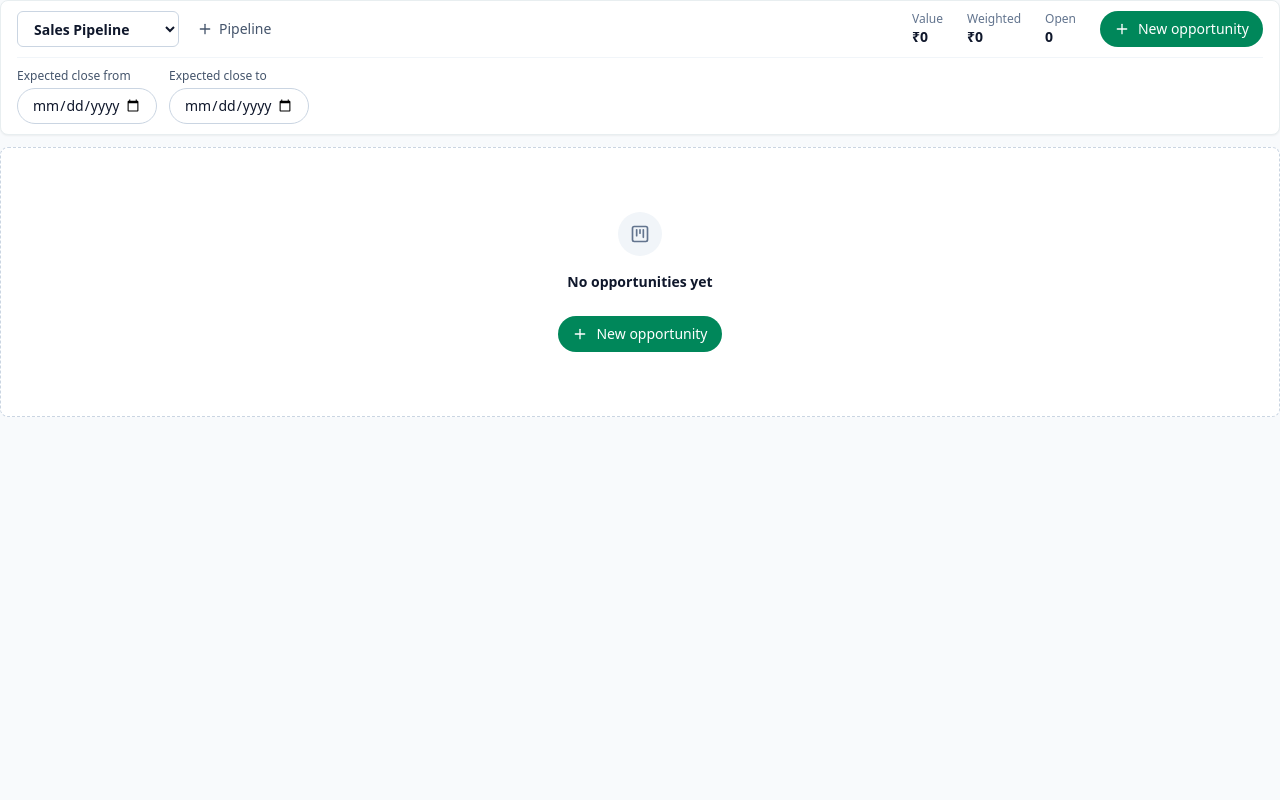
Test: the New opportunity panel › UI-3: a 409 on create shows the server's message, not an endless 'Loading the latest version…'
Click the button "New opportunity" next to "Open" at [1182, 29], box [1100,11,1263,47]
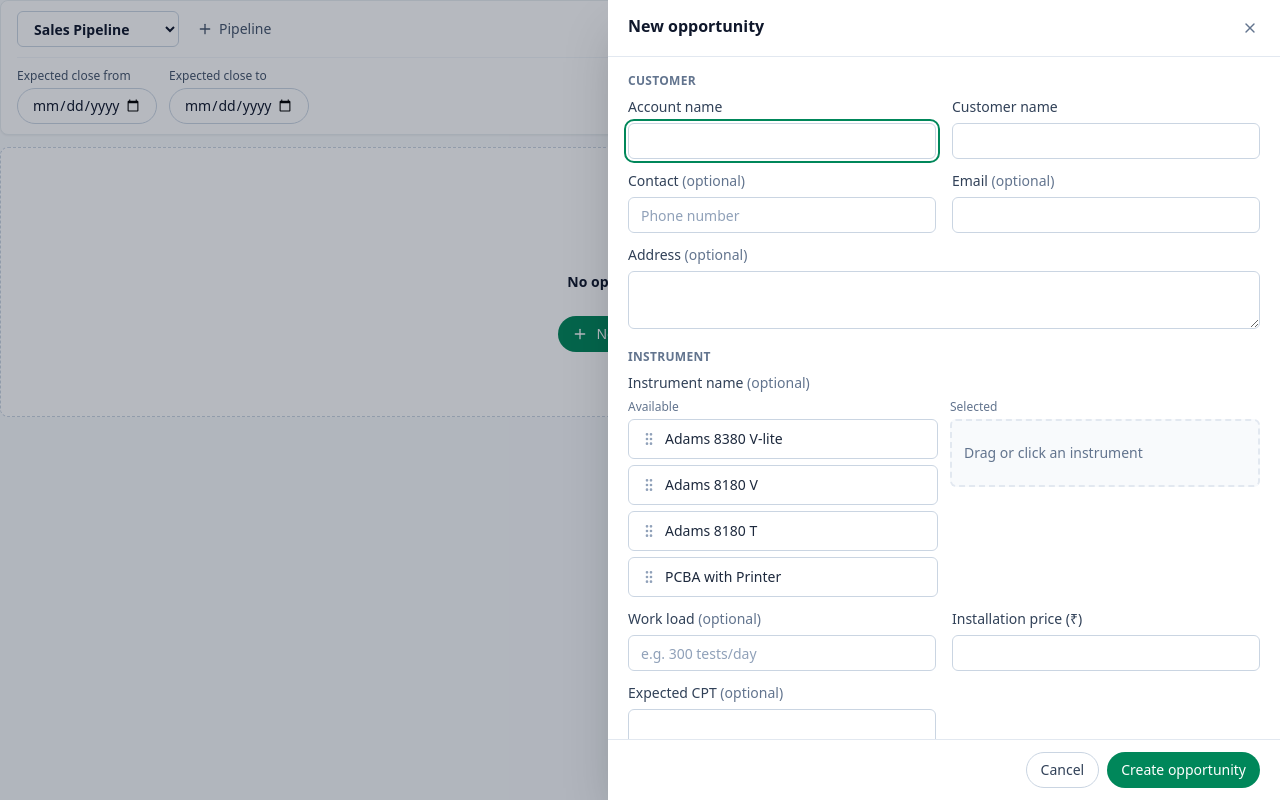
Type "City Lab" into the field labelled "Account name" at [782, 141], box [628,123,936,159]
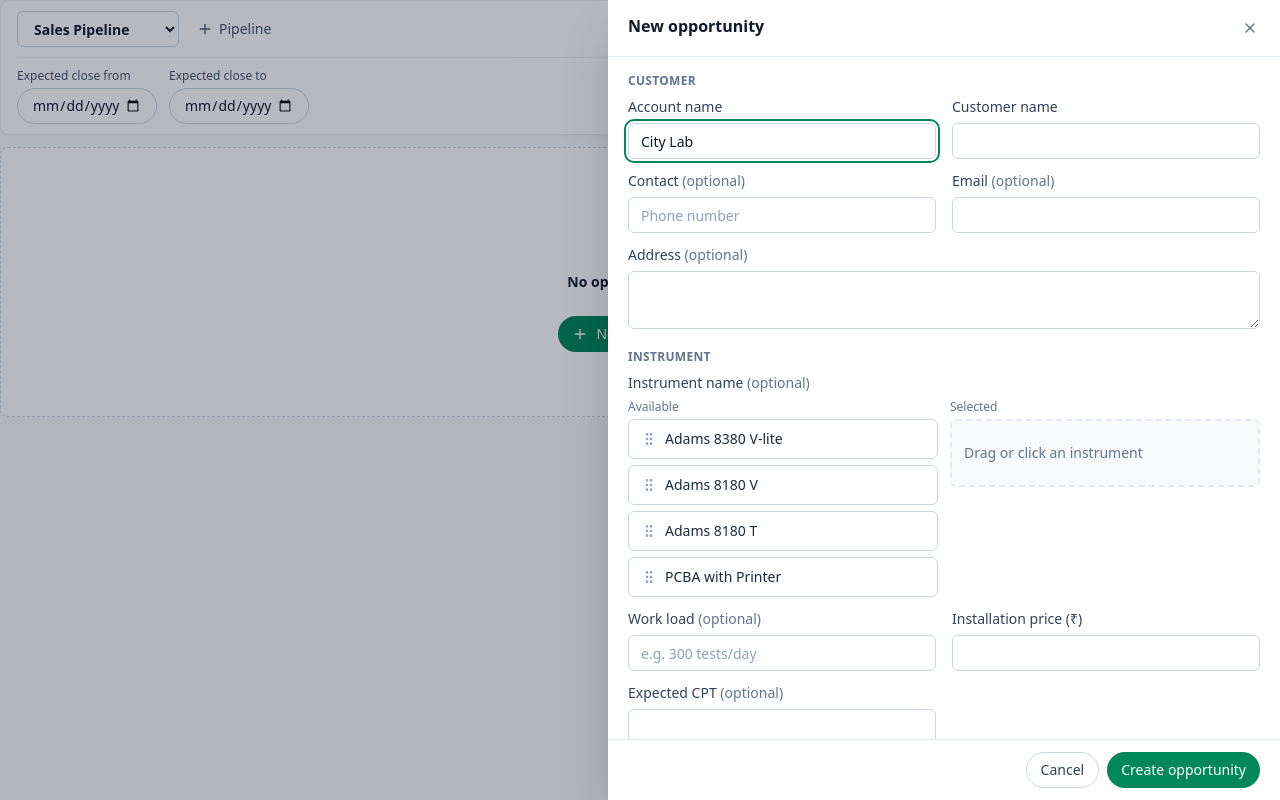
Type "Dr. Iyer" into the field labelled "Customer name" at [1106, 141], box [952,123,1260,159]
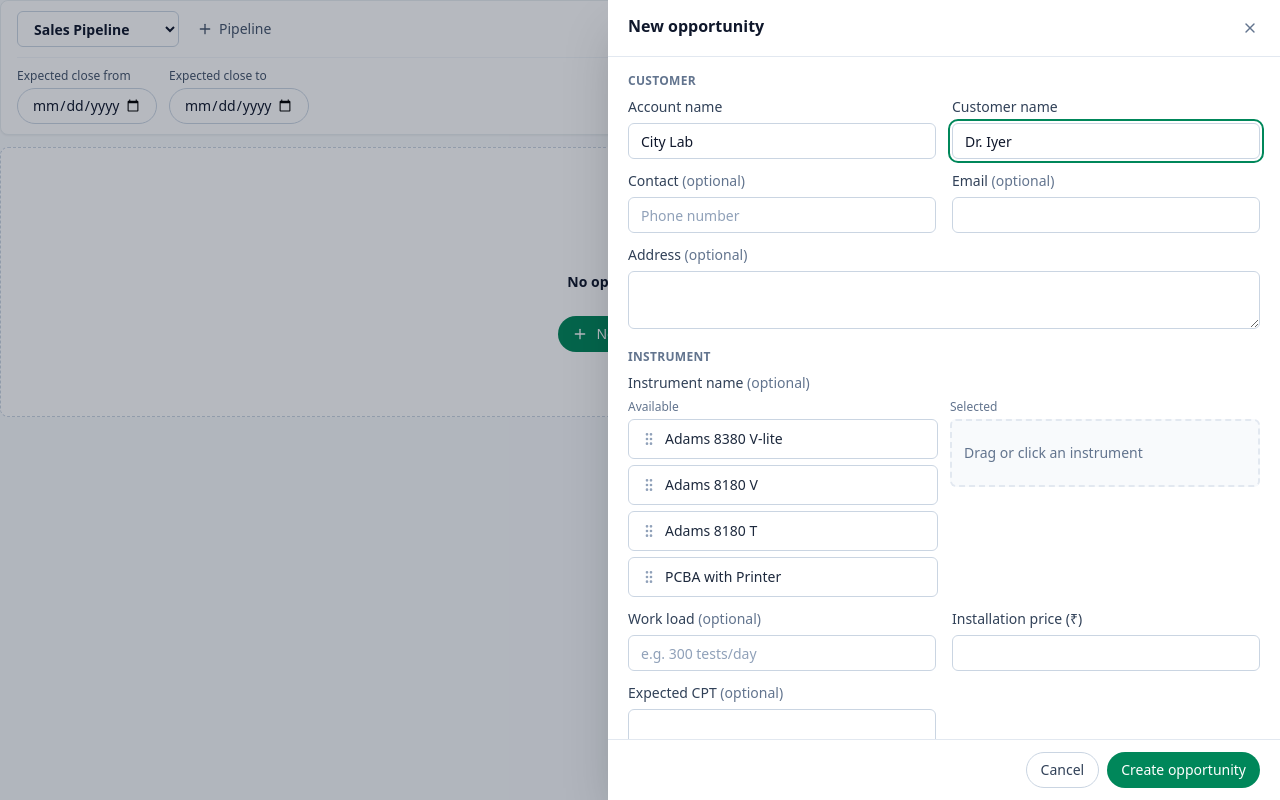
Type "12,50,000" into the field labelled "Installation price (₹)" at [1106, 653], box [952,635,1260,671]
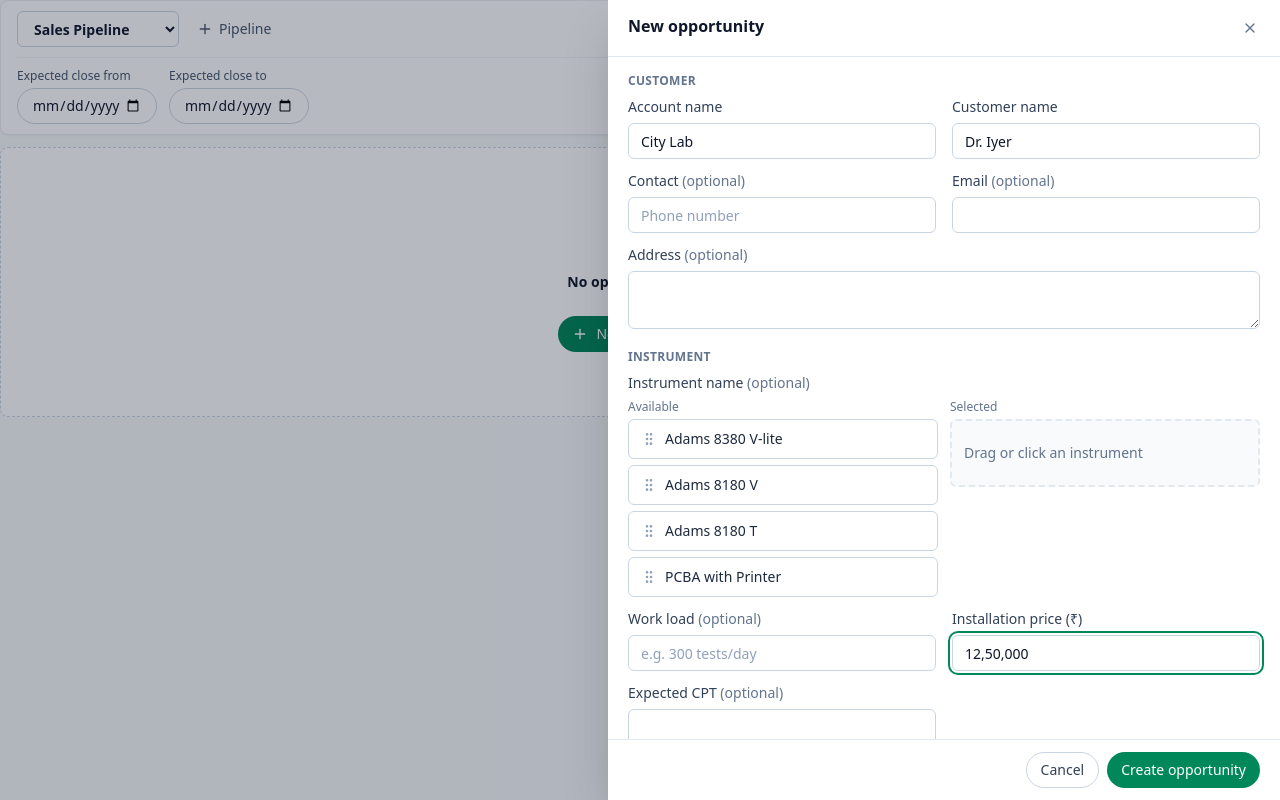
Click the button "Create opportunity" at [1184, 770], box [1107,752,1260,788]
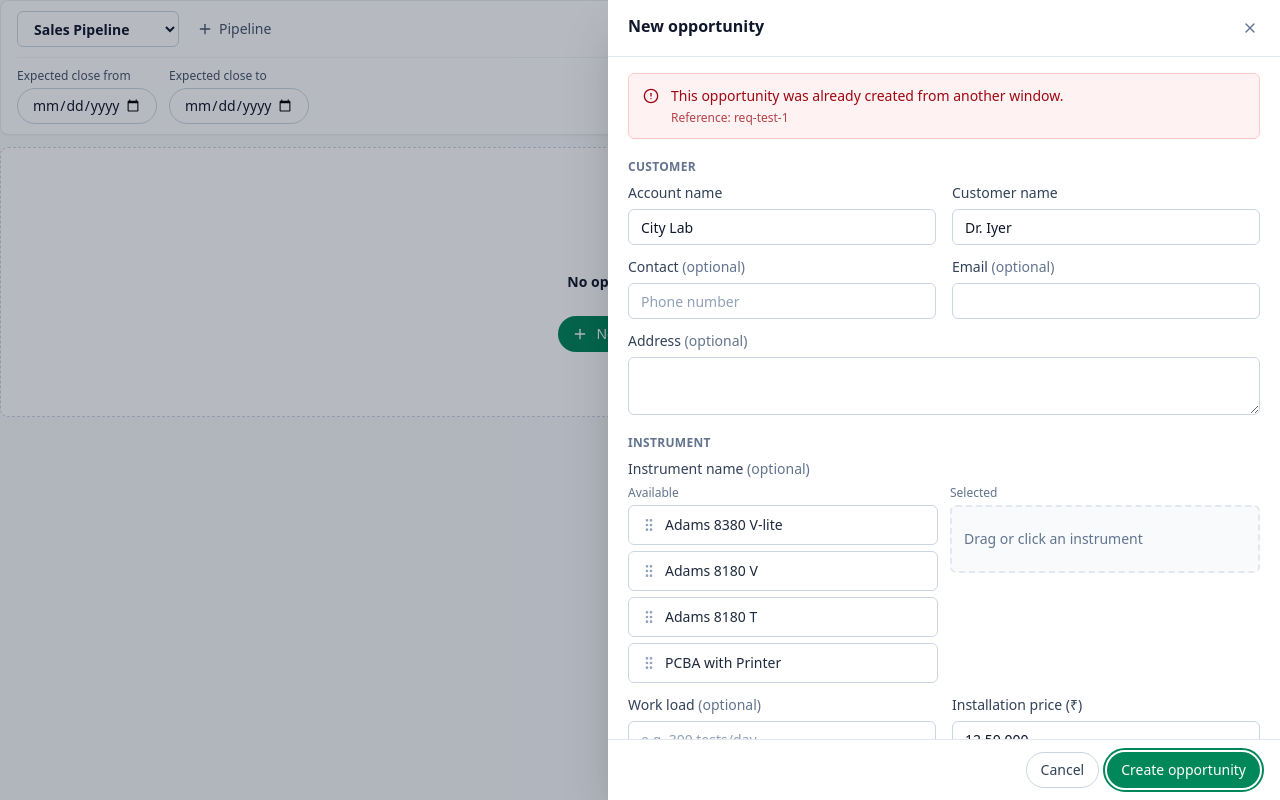
Expected: the message shows "already created from another window", [671,86,1063,105]
